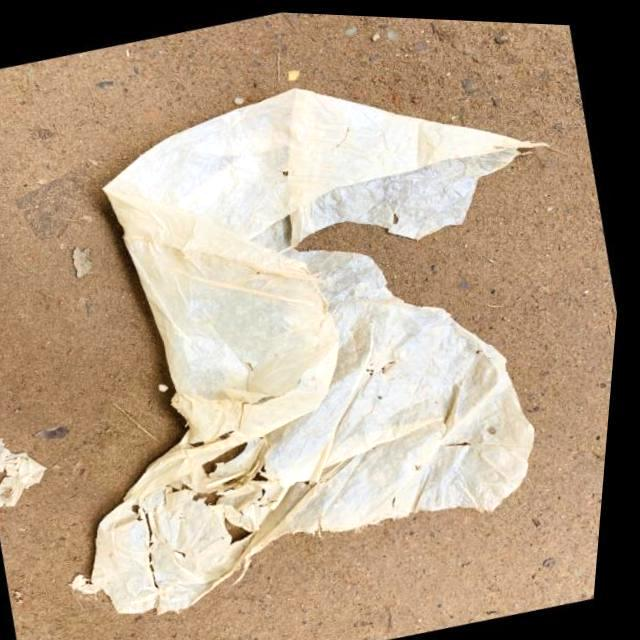polythene: (123, 107, 493, 549)
